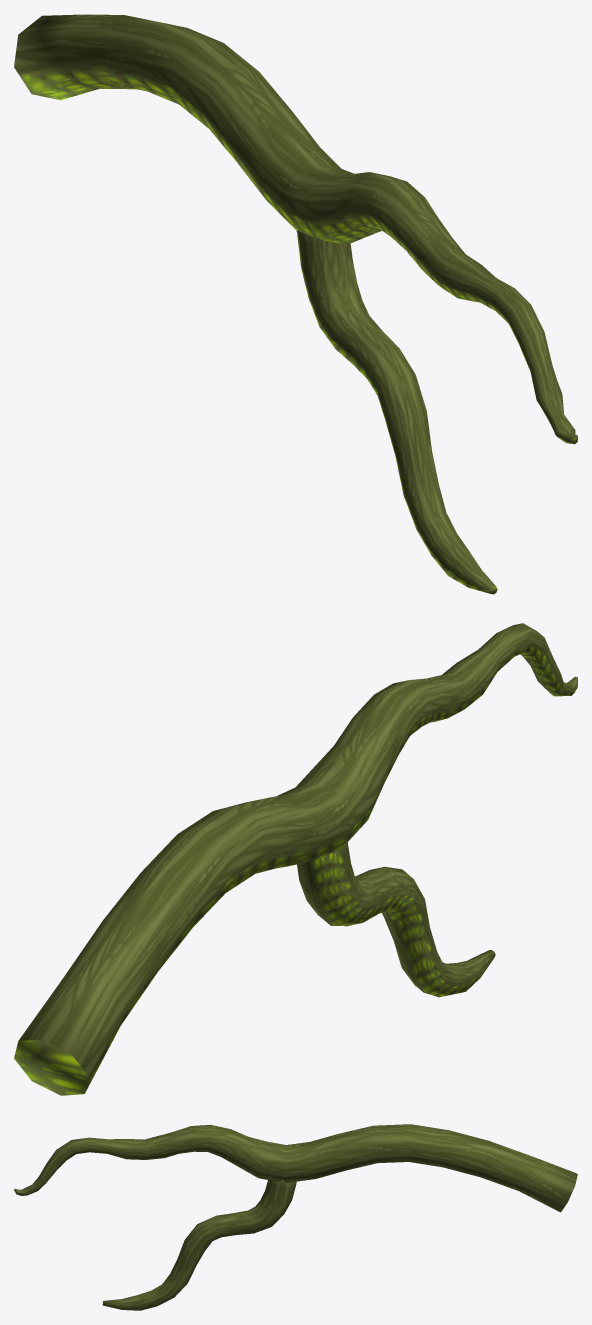
Rendered from tt_forest_root03_a.FBX.
3 renders of one model, top to bottom at view 1: azimuth 30°, elevation 25°; view 2: azimuth 150°, elevation 25°; view 3: azimuth 270°, elevation 25°, orthographic. The views are drawn at different scales.
Visible parts, largest first — view 1: tt_forest_root03_a; view 2: tt_forest_root03_a; view 3: tt_forest_root03_a.
Boxes of the visible parts, left/top/right/bottom form: tt_forest_root03_a: left=14, top=14, right=577, bottom=594; tt_forest_root03_a: left=14, top=623, right=577, bottom=1095; tt_forest_root03_a: left=14, top=1124, right=577, bottom=1310.
Size of the model in its own units: 90.69 by 406 by 1120.
